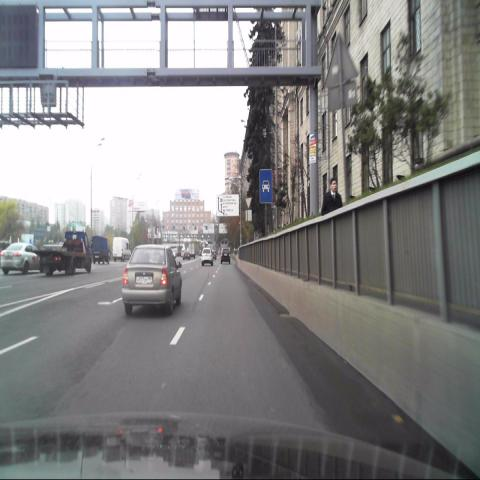5_3: (260, 168, 272, 202)
